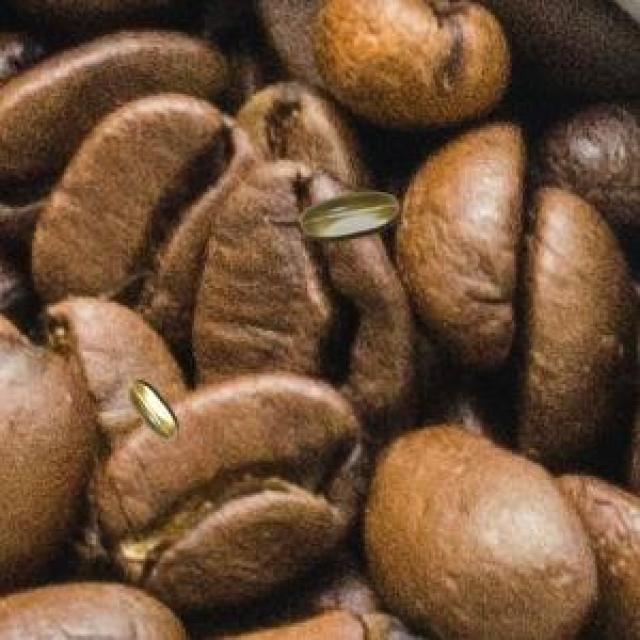Fish_Oil: (286, 180, 424, 258), (124, 366, 188, 449)
